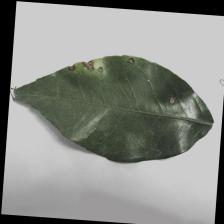canker: (58, 44, 180, 109)
